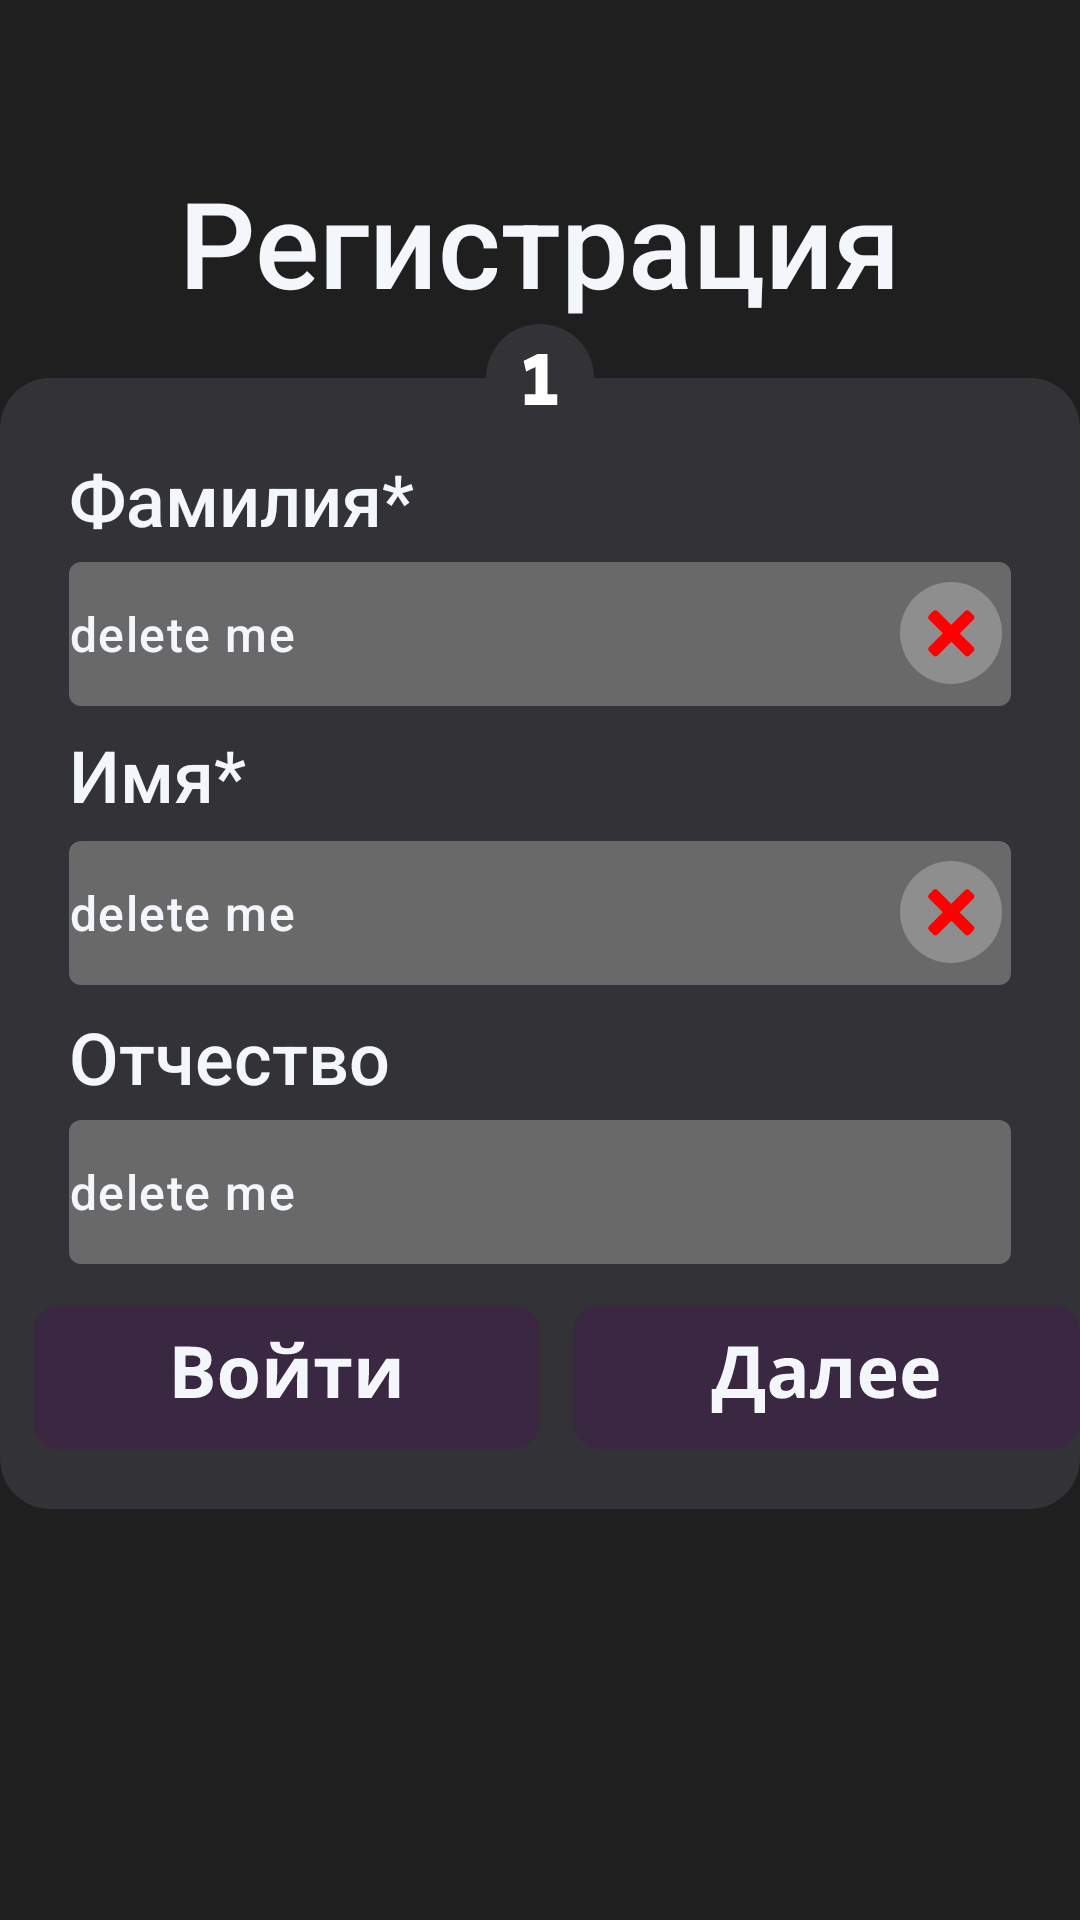

Point at icon controls on the screen. Image size 1080 x 1920, points as [x,y].
wronglineimage: [951,633], [951,912]
